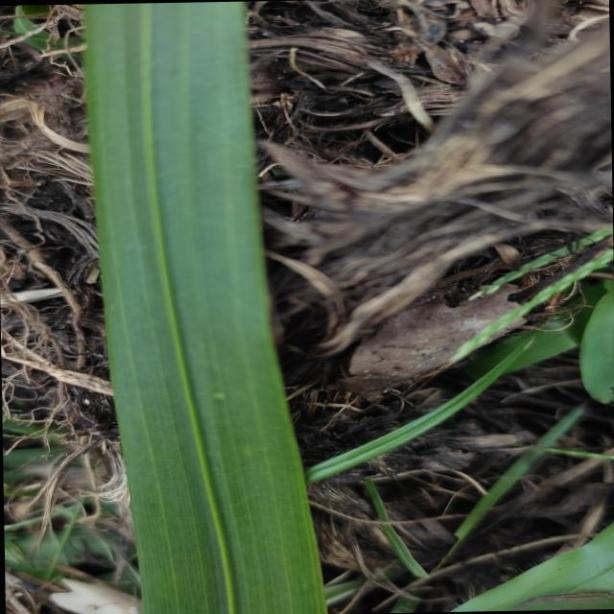Healthy: (81, 5, 324, 614)
